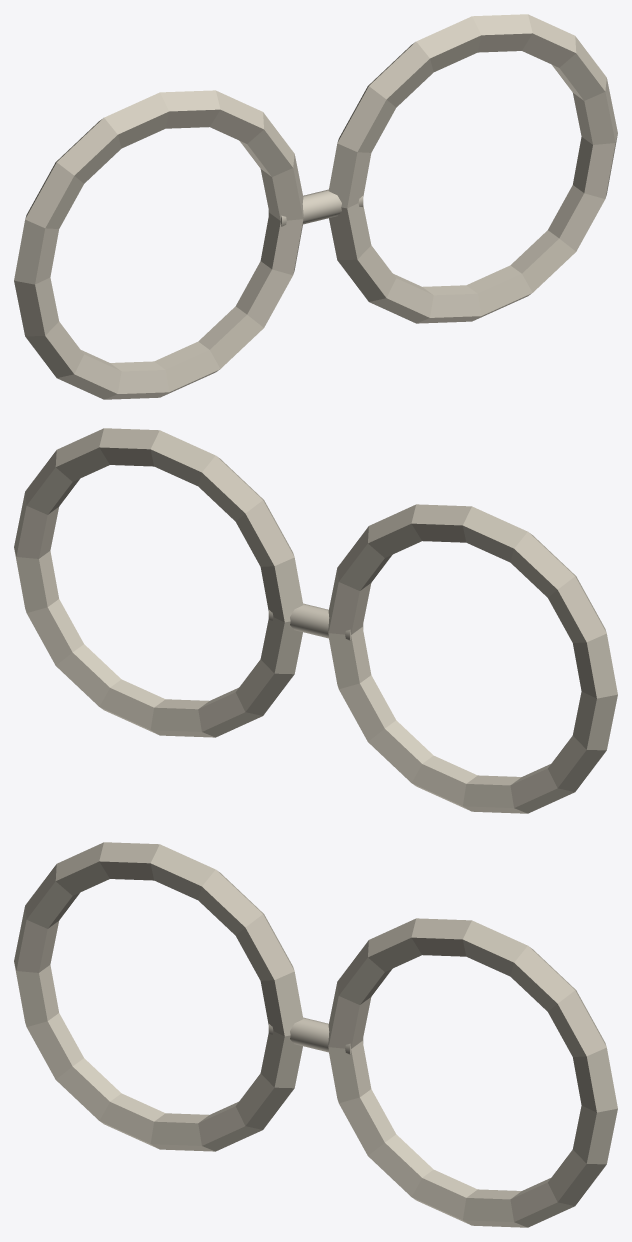
Rendered from glasses.glb.
3 views of the same model, one above another, from view 1: azimuth 30°, elevation 25°; view 2: azimuth 150°, elevation 25°; view 3: azimuth 330°, elevation 25° (orthographic).
Parts seen in each view (by area): view 1: glasses; view 2: glasses; view 3: glasses.
Part boxes in pixels (x1,y1,x2,y2): glasses: (14,14,617,399); glasses: (14,428,617,813); glasses: (14,842,617,1227).
Size of the model in its own units: 0.4005 by 0.1935 by 0.0214.
